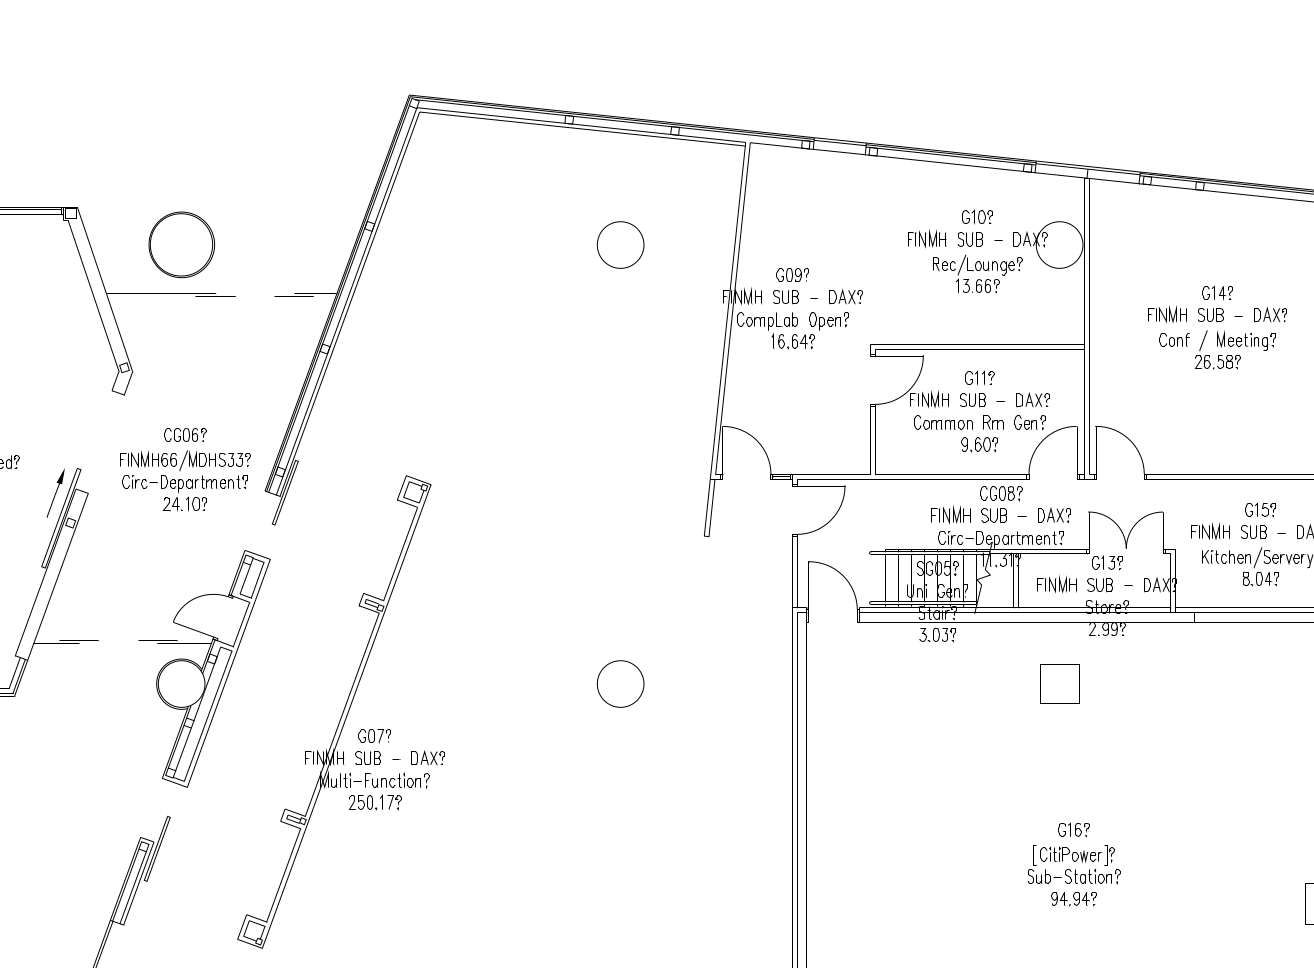door: (718, 425, 781, 479), (802, 556, 865, 610), (871, 352, 934, 406), (1020, 424, 1083, 478), (1090, 422, 1153, 476), (169, 585, 232, 640), (792, 481, 855, 534), (1085, 499, 1130, 557), (1123, 502, 1168, 560)
